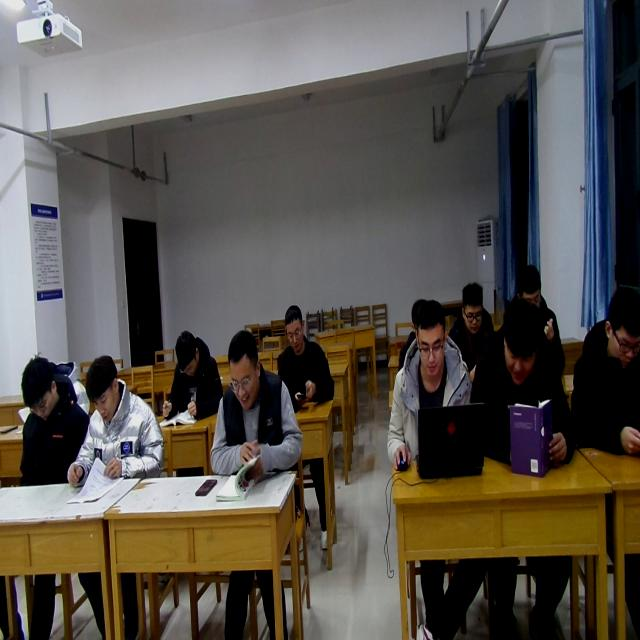down: (498, 296, 544, 388), (223, 324, 266, 412), (602, 281, 638, 373), (82, 348, 126, 422), (412, 296, 448, 384), (18, 348, 58, 422), (278, 301, 312, 358), (172, 324, 202, 380), (512, 258, 544, 310), (458, 280, 486, 334)
sit: (471, 297, 570, 473), (386, 297, 474, 475), (208, 328, 302, 476), (65, 354, 165, 492), (571, 289, 640, 461), (16, 353, 88, 487), (511, 264, 567, 378), (276, 305, 336, 407), (162, 329, 222, 421), (447, 280, 495, 386)
